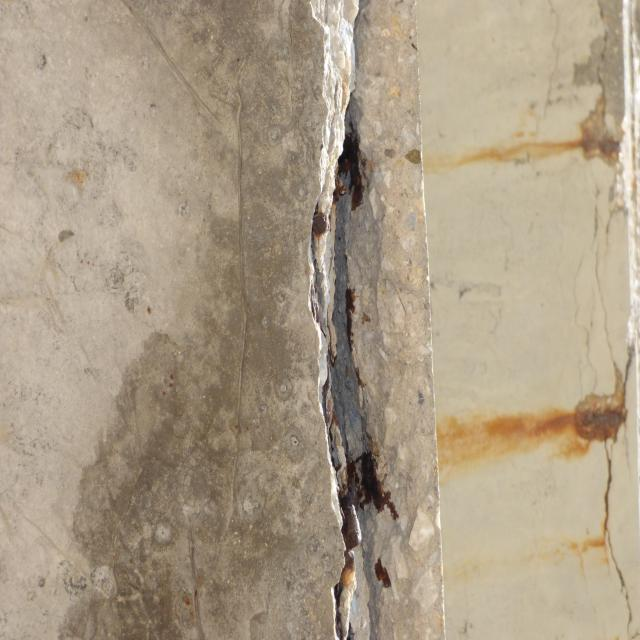Rebar: (301, 0, 401, 640)
vertical crack: (602, 436, 640, 640), (592, 183, 623, 380), (572, 244, 601, 400), (589, 0, 612, 139), (542, 0, 560, 121)
